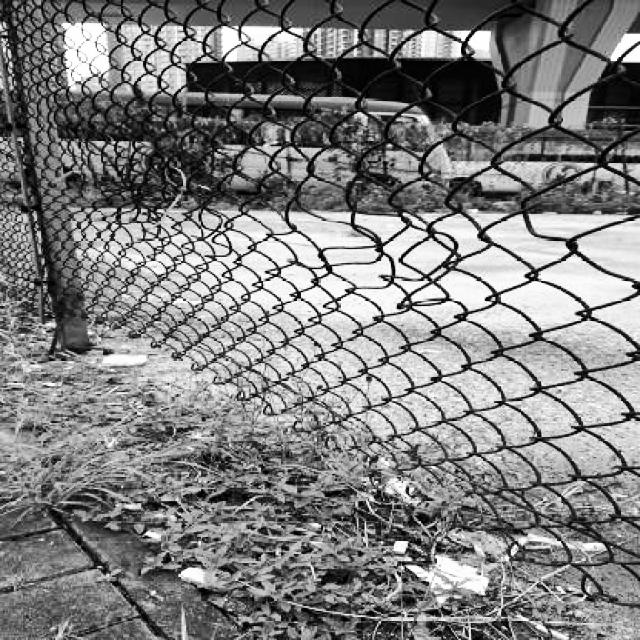fences: (196, 0, 633, 389)
